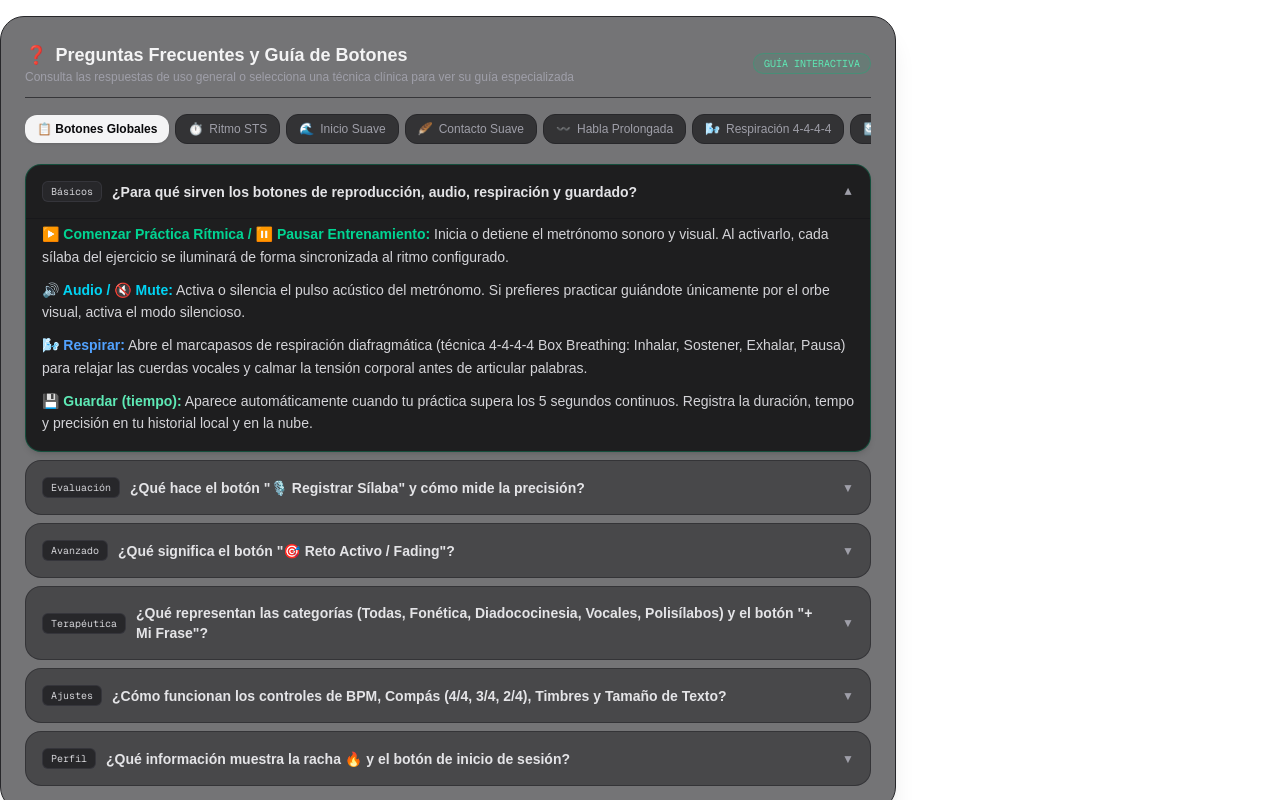
it: FaqAndMethodology Component - Unit Tests › debe permitir cambiar a la pestaña de una técnica (ej. Inicio Suave) y consultar su FAQ especializado
The image size is (1280, 800).
Click the button "🌊 Inicio Suave": (342, 129) left=286, top=114, right=399, bottom=144
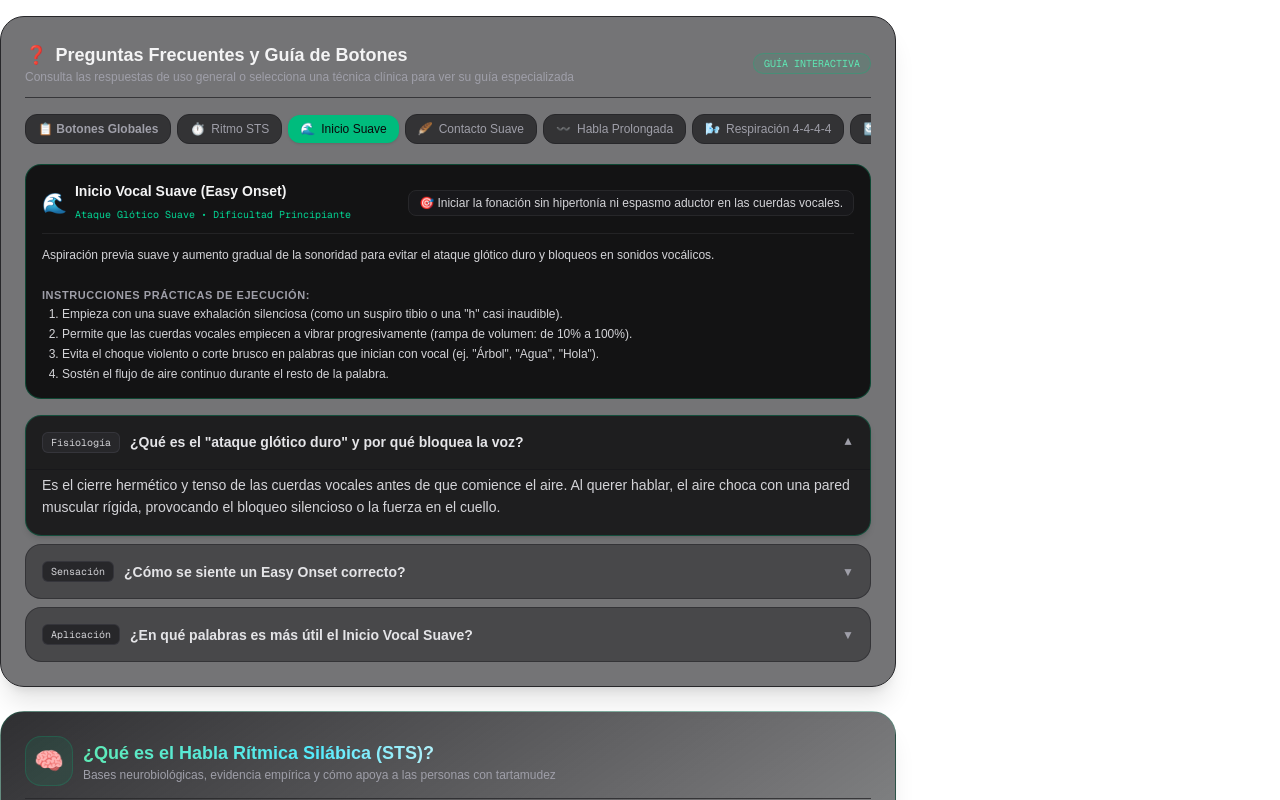
Expected: the heading "Inicio Vocal Suave (Easy Onset)" is shown, left=75, top=183, right=286, bottom=199
Expected: the text "¿Qué es el \"ataque glótico duro\" y por qué bloquea la voz?" is shown, left=130, top=432, right=524, bottom=452
